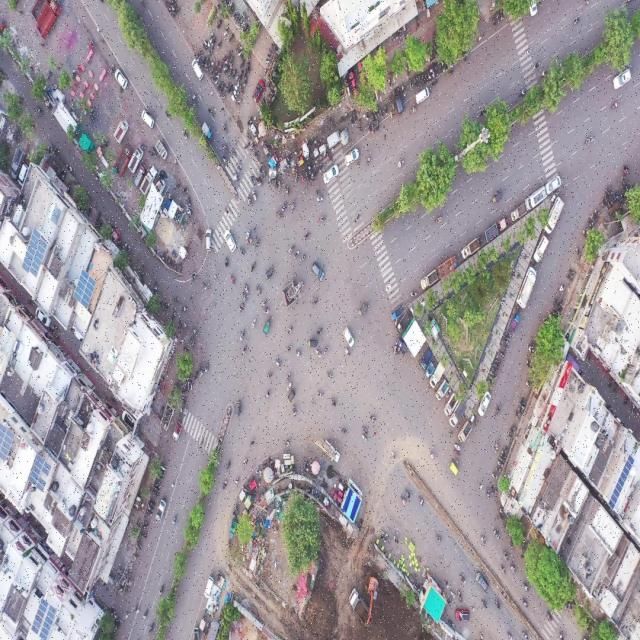3W: (491, 190, 506, 205), (233, 398, 242, 421), (447, 461, 459, 478), (262, 316, 271, 338), (265, 264, 275, 282), (358, 300, 367, 319), (308, 336, 318, 349), (288, 390, 295, 404)
Cars: (610, 67, 631, 91), (533, 234, 549, 264), (474, 569, 491, 592), (322, 163, 339, 185), (141, 106, 156, 130), (224, 229, 238, 254), (251, 78, 264, 103), (310, 261, 326, 281), (345, 146, 360, 167), (478, 392, 491, 416), (115, 68, 129, 90), (343, 325, 356, 348), (394, 86, 404, 115), (546, 176, 561, 194), (192, 59, 203, 82), (203, 575, 214, 598), (415, 87, 429, 105), (204, 227, 213, 252), (455, 609, 471, 622)
LCV: (516, 267, 539, 308), (545, 197, 564, 234), (139, 164, 158, 193), (526, 189, 546, 211), (450, 401, 467, 426), (128, 147, 144, 172), (113, 120, 129, 143), (420, 271, 438, 291), (394, 313, 410, 335), (326, 129, 342, 151), (462, 238, 479, 258), (510, 202, 526, 222), (155, 496, 166, 525), (458, 420, 472, 442), (431, 364, 443, 388), (154, 140, 168, 160), (436, 380, 450, 400), (445, 393, 457, 415), (172, 421, 184, 441), (390, 305, 402, 322), (396, 338, 408, 355), (421, 351, 432, 369), (424, 362, 435, 379), (510, 314, 520, 332)
M2W: (457, 570, 468, 586), (434, 530, 445, 546), (584, 133, 595, 148), (545, 610, 555, 626), (300, 228, 312, 241), (609, 99, 622, 111), (504, 626, 515, 640), (140, 606, 149, 623), (325, 370, 336, 383), (329, 395, 338, 410), (265, 369, 274, 384), (342, 348, 353, 360), (236, 302, 246, 315), (572, 13, 582, 26), (207, 104, 215, 120), (311, 295, 320, 309), (520, 628, 530, 640), (518, 86, 528, 98), (364, 155, 374, 167), (241, 342, 248, 359), (485, 485, 492, 502), (146, 621, 155, 634), (286, 324, 294, 338), (238, 330, 246, 344), (230, 146, 238, 160), (492, 441, 500, 455), (575, 244, 582, 260), (274, 358, 284, 369), (432, 216, 442, 227), (493, 598, 502, 610), (522, 582, 531, 594), (480, 598, 489, 610), (264, 388, 273, 400), (383, 282, 392, 294), (250, 259, 257, 274), (197, 436, 204, 451), (521, 597, 529, 610), (498, 563, 506, 576), (396, 159, 406, 169), (368, 413, 377, 424), (340, 424, 349, 435), (287, 243, 296, 254), (448, 618, 457, 629), (479, 532, 486, 546), (493, 528, 500, 542), (509, 562, 516, 576), (180, 128, 187, 142), (133, 603, 140, 617), (428, 449, 436, 461), (315, 324, 323, 336), (254, 284, 262, 296), (276, 208, 282, 224), (158, 585, 166, 597), (457, 588, 463, 604), (502, 549, 509, 562), (253, 238, 260, 251), (241, 456, 248, 469), (223, 204, 230, 217), (250, 174, 257, 187), (108, 63, 115, 76), (404, 486, 411, 499), (135, 539, 142, 552), (360, 434, 369, 444), (220, 122, 229, 132), (532, 60, 541, 70), (262, 306, 271, 316), (316, 390, 324, 401), (232, 476, 240, 487), (224, 254, 230, 268), (243, 282, 249, 296), (171, 514, 177, 528), (192, 90, 198, 104), (540, 67, 547, 79), (204, 362, 210, 376), (391, 450, 397, 464), (387, 76, 393, 90), (315, 194, 324, 203), (513, 412, 522, 421), (292, 249, 300, 259), (71, 68, 76, 84), (251, 317, 257, 330), (222, 478, 228, 491), (282, 201, 288, 214), (291, 404, 297, 417), (285, 342, 292, 353), (164, 110, 171, 121), (400, 495, 407, 506), (449, 589, 456, 600), (558, 283, 565, 294), (418, 494, 424, 506), (239, 246, 245, 258), (226, 459, 232, 471), (222, 154, 228, 166), (408, 106, 417, 114), (478, 233, 484, 245), (318, 215, 326, 224), (290, 200, 296, 212), (244, 229, 250, 241), (245, 238, 254, 246), (250, 190, 256, 202), (191, 270, 197, 282), (284, 185, 290, 197), (495, 405, 501, 417), (444, 578, 450, 590), (491, 472, 499, 481), (551, 296, 557, 308), (448, 68, 456, 77), (412, 77, 418, 89), (407, 79, 413, 91), (524, 47, 531, 57), (246, 197, 253, 207), (221, 143, 228, 153), (315, 349, 322, 359), (36, 105, 43, 115), (181, 304, 188, 314), (216, 2, 223, 12), (223, 26, 230, 36), (295, 348, 301, 359), (182, 407, 188, 418), (379, 530, 385, 541), (262, 170, 268, 181), (248, 141, 254, 152), (240, 59, 246, 70), (230, 274, 235, 287), (417, 74, 422, 87), (410, 290, 418, 298), (525, 381, 533, 389), (202, 43, 209, 52), (251, 438, 256, 450), (354, 212, 359, 224), (261, 297, 267, 307), (286, 381, 292, 391), (323, 345, 329, 355), (235, 161, 241, 171), (507, 432, 513, 442), (430, 67, 435, 79), (259, 160, 264, 172), (216, 39, 222, 49), (216, 19, 222, 29), (218, 64, 223, 76), (551, 309, 558, 317), (568, 268, 575, 276), (431, 79, 438, 87), (202, 281, 207, 292), (453, 451, 462, 457), (500, 344, 509, 350), (221, 55, 227, 64), (199, 364, 203, 377), (194, 370, 198, 383), (402, 84, 406, 97), (388, 93, 392, 106), (300, 173, 304, 186), (227, 49, 231, 62), (286, 372, 291, 382), (233, 173, 238, 183), (243, 77, 248, 87), (228, 34, 233, 44), (235, 43, 240, 53), (232, 70, 237, 80), (214, 75, 219, 85), (201, 56, 206, 66), (197, 49, 202, 59), (454, 444, 461, 451), (498, 351, 505, 358), (300, 254, 306, 262), (92, 110, 96, 122), (140, 532, 146, 540), (141, 524, 149, 530), (492, 488, 498, 496), (494, 358, 502, 364), (566, 274, 572, 282), (496, 12, 500, 24), (492, 16, 496, 28), (421, 73, 425, 85), (376, 120, 380, 132), (384, 104, 388, 116), (349, 115, 353, 127), (274, 177, 278, 189), (212, 35, 216, 47), (238, 69, 242, 81), (428, 71, 432, 82), (215, 61, 219, 72), (228, 69, 232, 80), (502, 449, 508, 456), (509, 426, 516, 432), (519, 403, 525, 410), (491, 367, 497, 374), (371, 121, 374, 135), (244, 133, 250, 140), (204, 41, 210, 48), (247, 60, 250, 74), (236, 74, 239, 88), (230, 56, 234, 66), (242, 68, 246, 78), (224, 60, 228, 70), (217, 82, 221, 92), (221, 81, 225, 91), (205, 58, 209, 68), (359, 121, 362, 134), (354, 111, 357, 124), (210, 31, 213, 44), (150, 501, 156, 507), (152, 491, 158, 497), (499, 457, 505, 463), (439, 62, 442, 74), (435, 65, 438, 77), (379, 107, 382, 119), (306, 171, 309, 183), (238, 47, 242, 56), (209, 46, 213, 55), (497, 460, 502, 467), (425, 73, 428, 84), (308, 163, 311, 174), (278, 179, 281, 189), (495, 468, 502, 472), (240, 84, 242, 95), (372, 113, 374, 123), (295, 173, 297, 183)
Truck: (34, 1, 60, 40), (349, 589, 372, 629), (114, 144, 130, 177)
